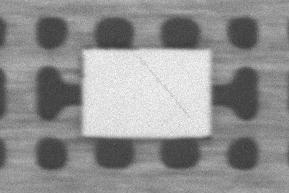DIE_CRACK: (207, 37, 285, 78)
